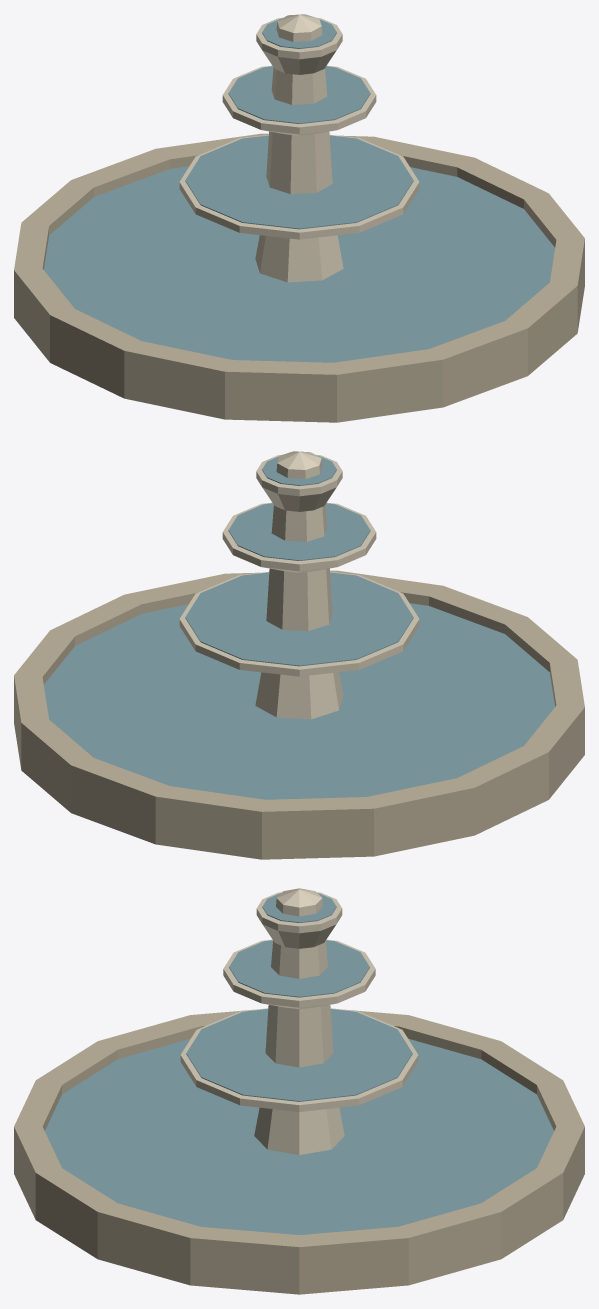
File: life_fountain.glb
3 views of the same model, one above another, from view 1: azimuth 30°, elevation 25°; view 2: azimuth 150°, elevation 25°; view 3: azimuth 270°, elevation 25° (orthographic).
Parts seen in each view (by area): view 1: life_fountain; view 2: life_fountain; view 3: life_fountain.
Boxes of the visible parts, x1,y1,x2,y2 form: life_fountain: [14, 14, 584, 422]; life_fountain: [14, 451, 584, 859]; life_fountain: [14, 888, 584, 1294].
Size of the model in its own units: 6 by 3.3 by 6.
